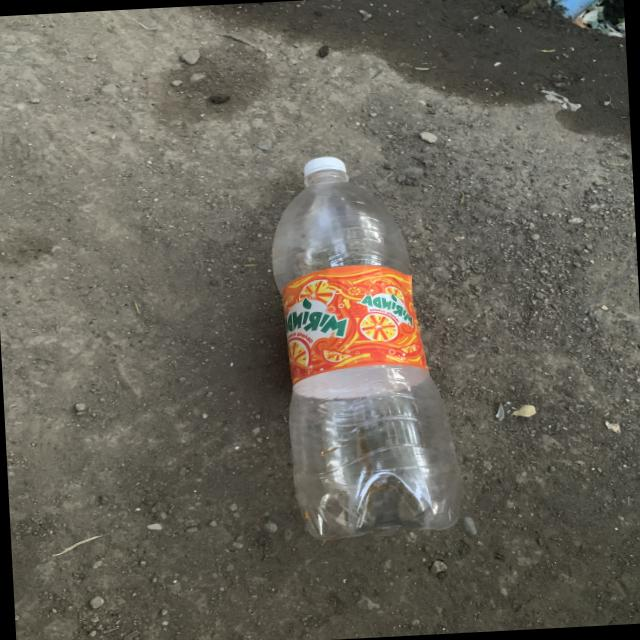Bottle: (273, 158, 461, 539)
